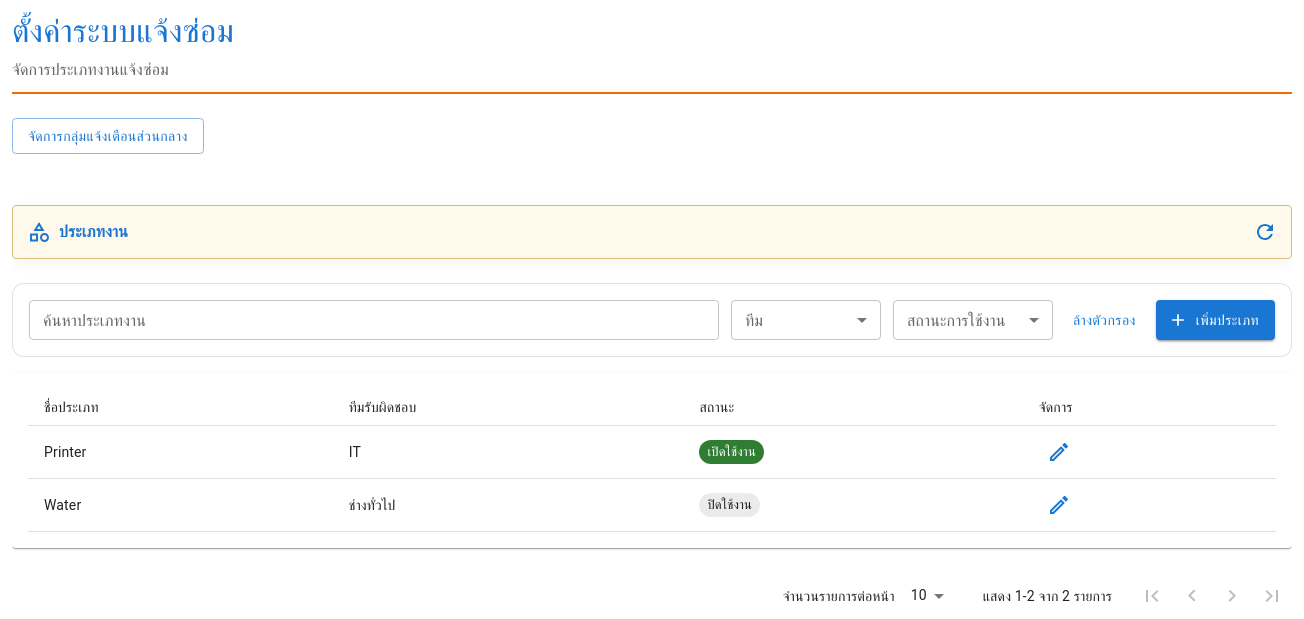
Scenario: repair settings › filters categories and hides legacy deliveries
Expected: the text "Printer" is shown, [28, 426, 333, 478]
Type "Water" into the field labelled "ค้นหาประเภทงาน" at coordinates (374, 320), box [29, 300, 719, 340]
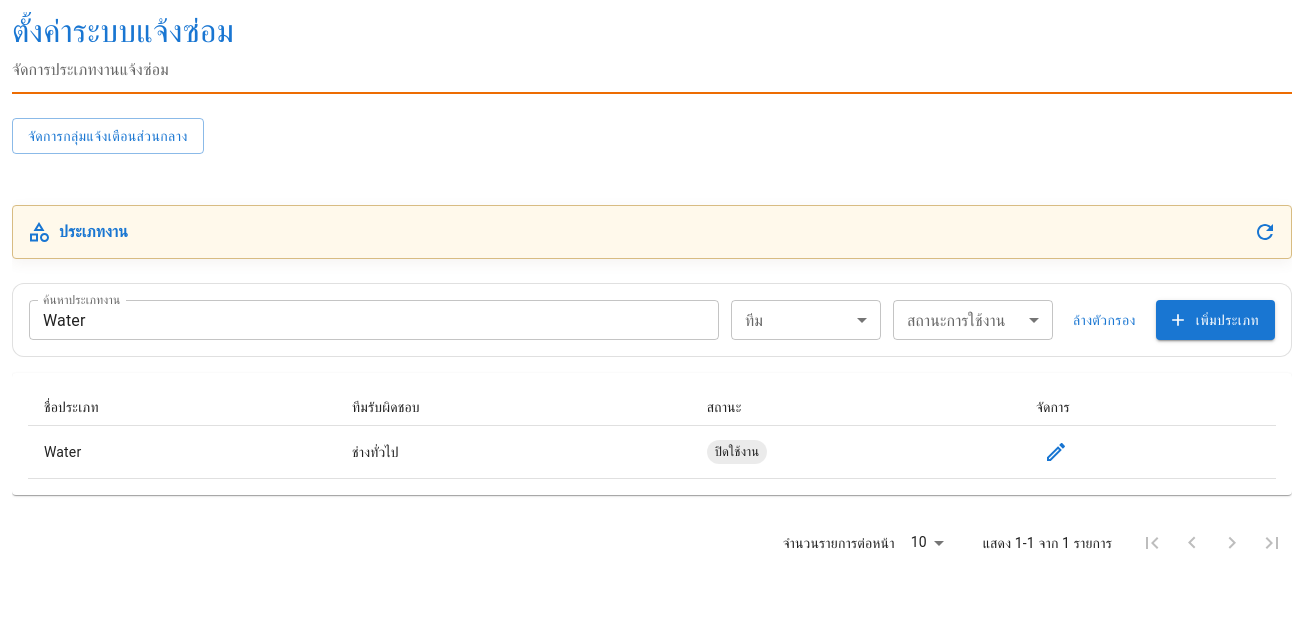
Expected: the text "Water" is shown, [28, 426, 336, 478]
Expected: the text "Printer" is gone
